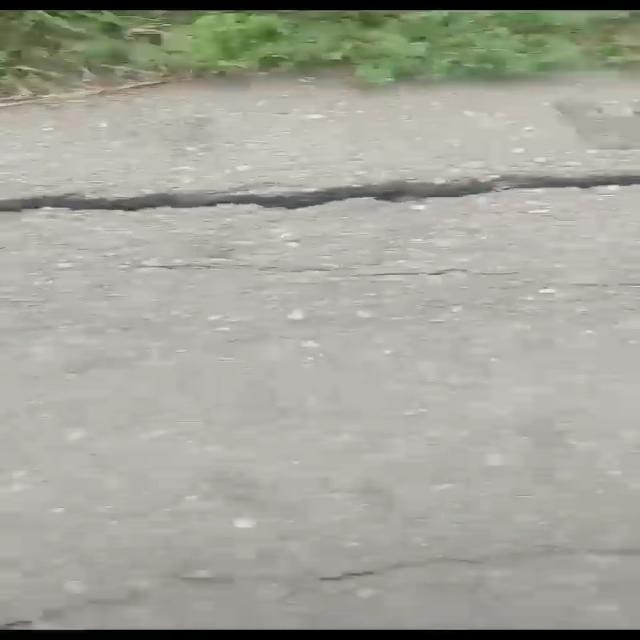Melintang: (0, 161, 640, 227)
